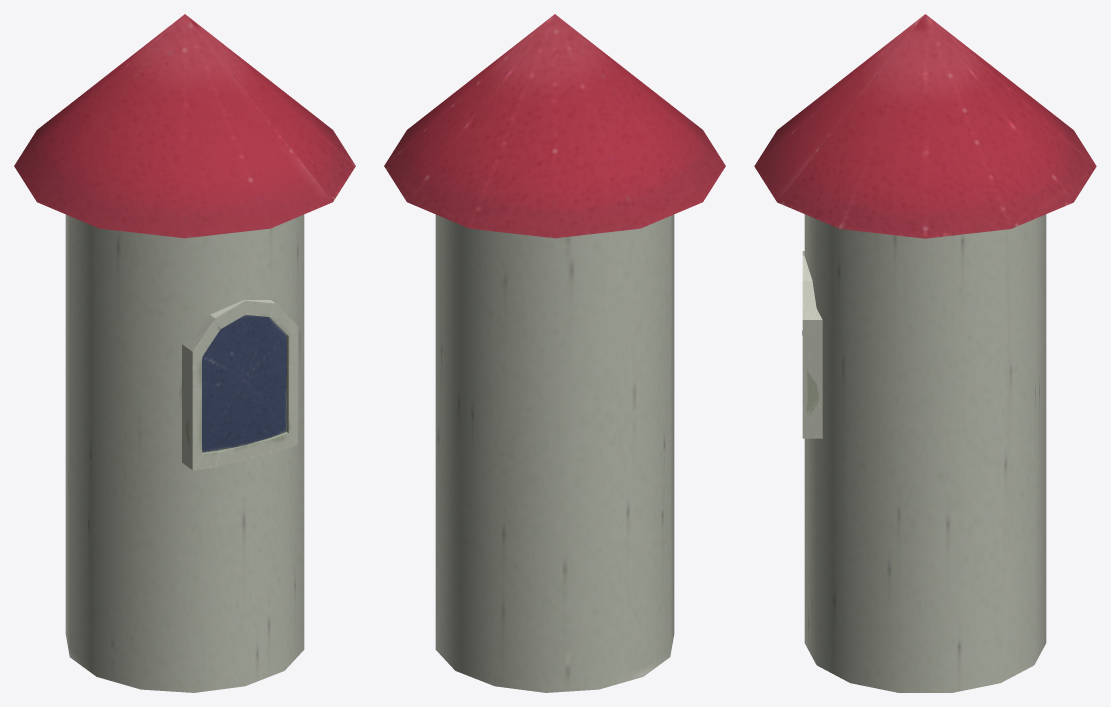
The model's file is Tower_Large.fbx.
3 renders of one model, left to right at view 1: azimuth 30°, elevation 25°; view 2: azimuth 150°, elevation 25°; view 3: azimuth 270°, elevation 25°, orthographic.
Parts seen in each view (by area): view 1: Tower_Large_GEO; view 2: Tower_Large_GEO; view 3: Tower_Large_GEO.
Boxes of the visible parts, <box> form: Tower_Large_GEO: <box>14,14,355,692</box>; Tower_Large_GEO: <box>384,14,725,692</box>; Tower_Large_GEO: <box>754,14,1096,692</box>.
Bounding box in the file's own units: 3.49 × 7.07 × 3.49.
